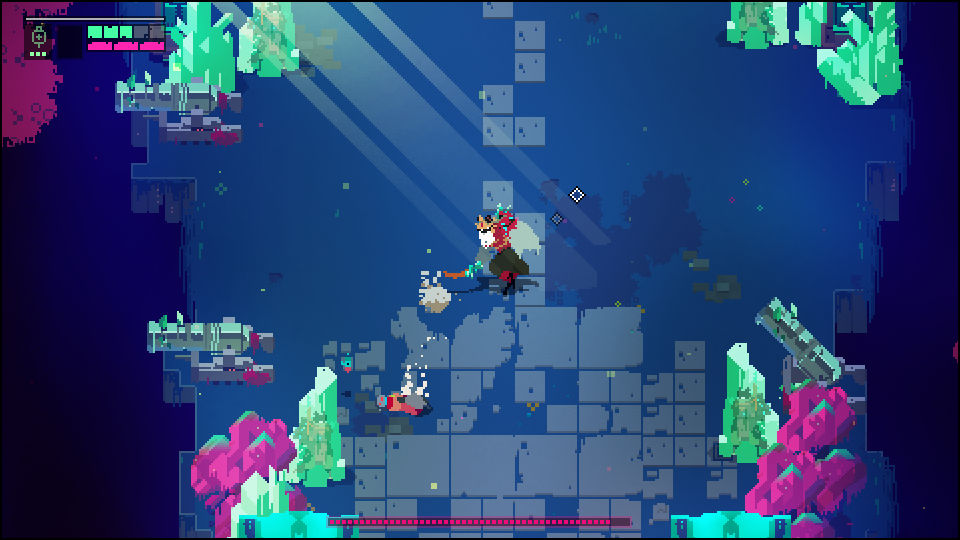hanged_man: (444, 207, 540, 297)
player: (377, 392, 432, 417)
